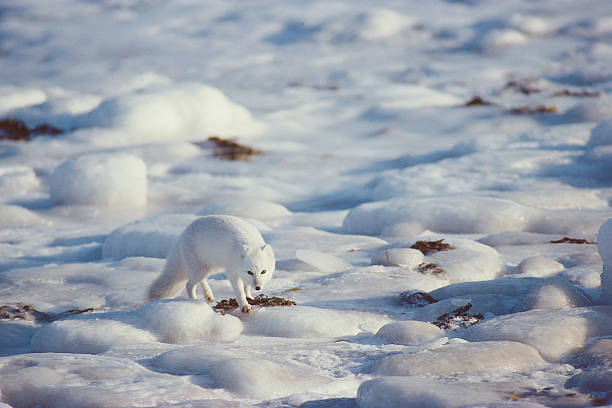arcticfox: (229, 242, 271, 289)
